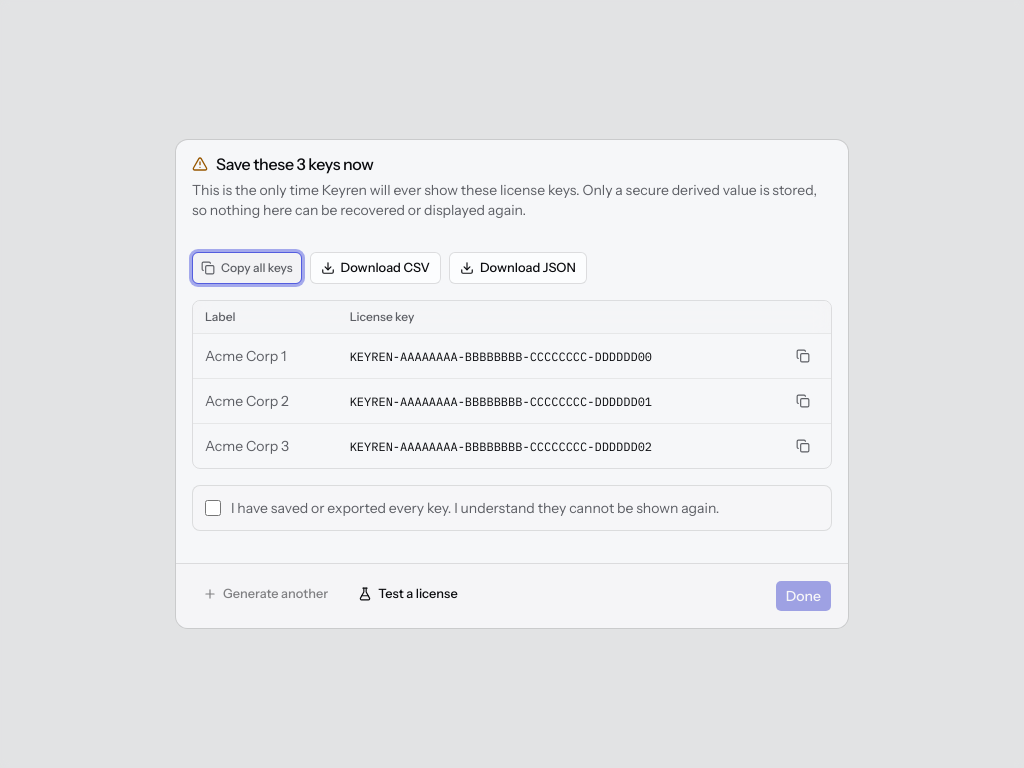
Test case: BatchResultDialog — the acknowledgement gate › enables Done only after the box is checked
Click the checkbox at (213,508), box [205, 500, 221, 516]
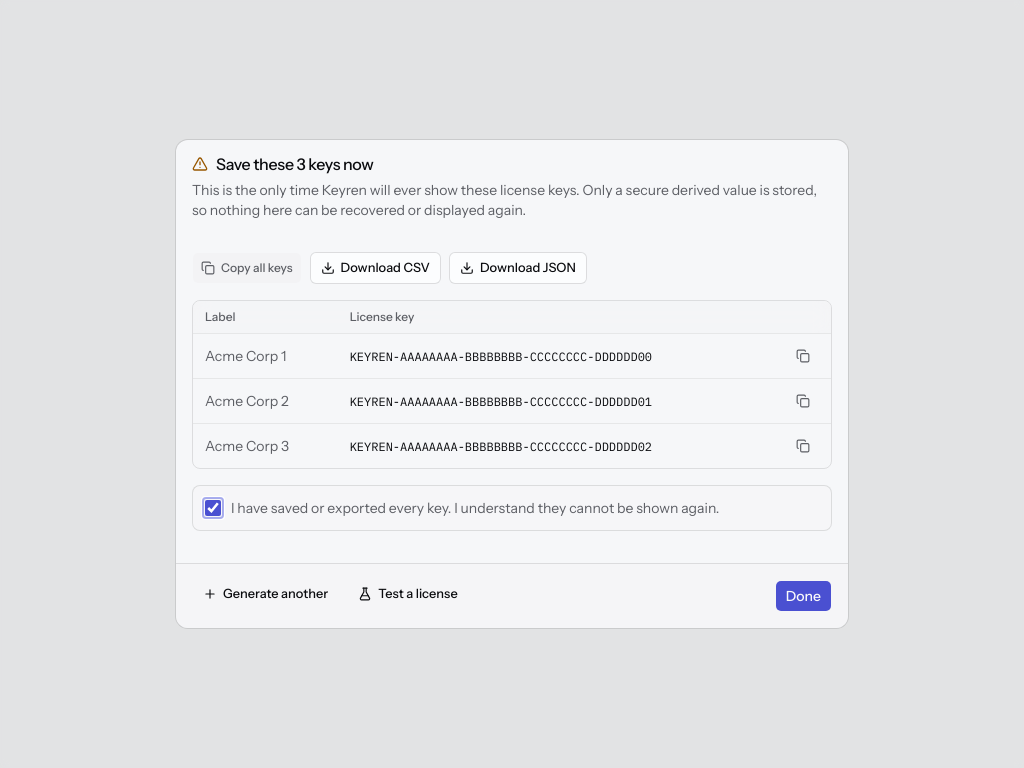
Now the button "Done" is enabled, box [775, 580, 832, 612]
